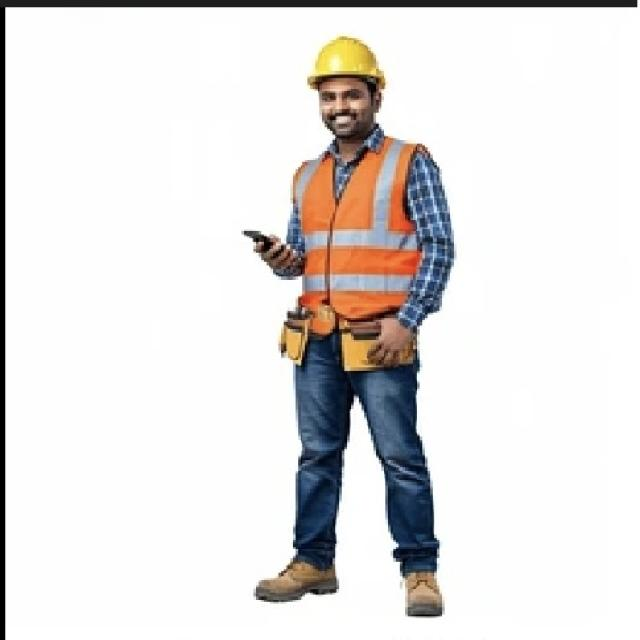boots: (249, 524, 350, 627), (369, 521, 454, 633)
helmet: (279, 26, 393, 96)
no-gloves: (349, 296, 424, 368), (239, 213, 310, 286)
person: (216, 12, 478, 640)
vest: (272, 136, 425, 311)
